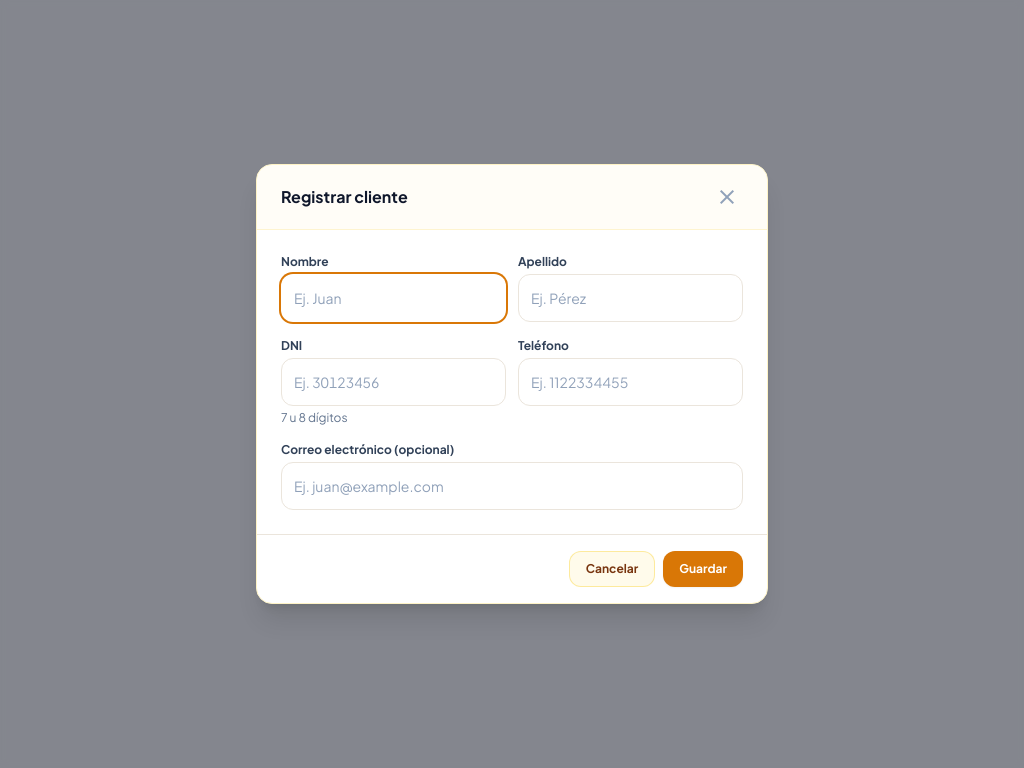
Test: ClienteForm › rechaza los campos obligatorios vacíos (CA2)
Click the button "Guardar" at coordinates (703, 569), box 663,551 -> 743,587
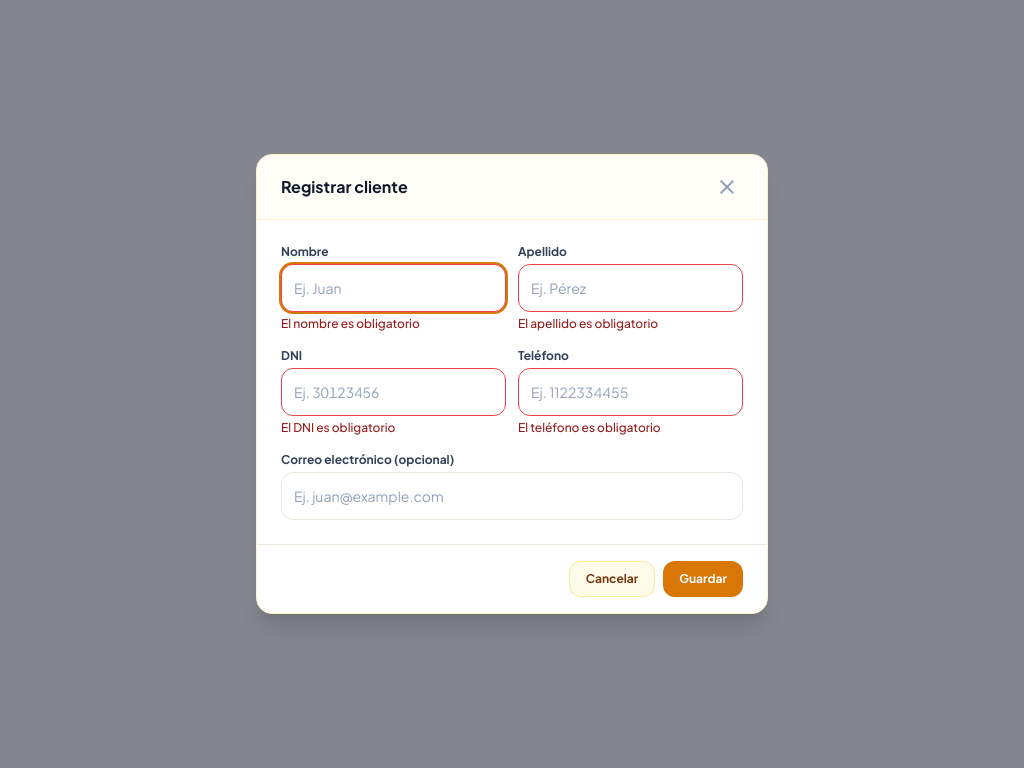
Expected: the text "El nombre es obligatorio" is shown, 281,316 -> 420,331
Expected: the text "El apellido es obligatorio" is shown, 518,316 -> 658,331
Expected: the text "El DNI es obligatorio" is shown, 281,420 -> 395,435
